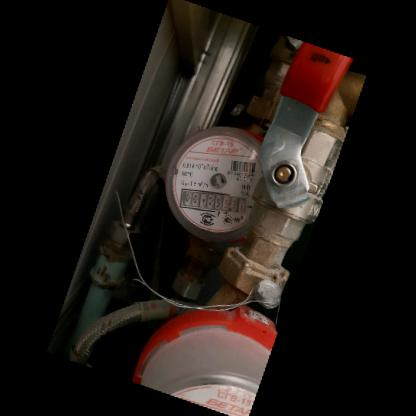digital_screen: (178, 187, 224, 213)
